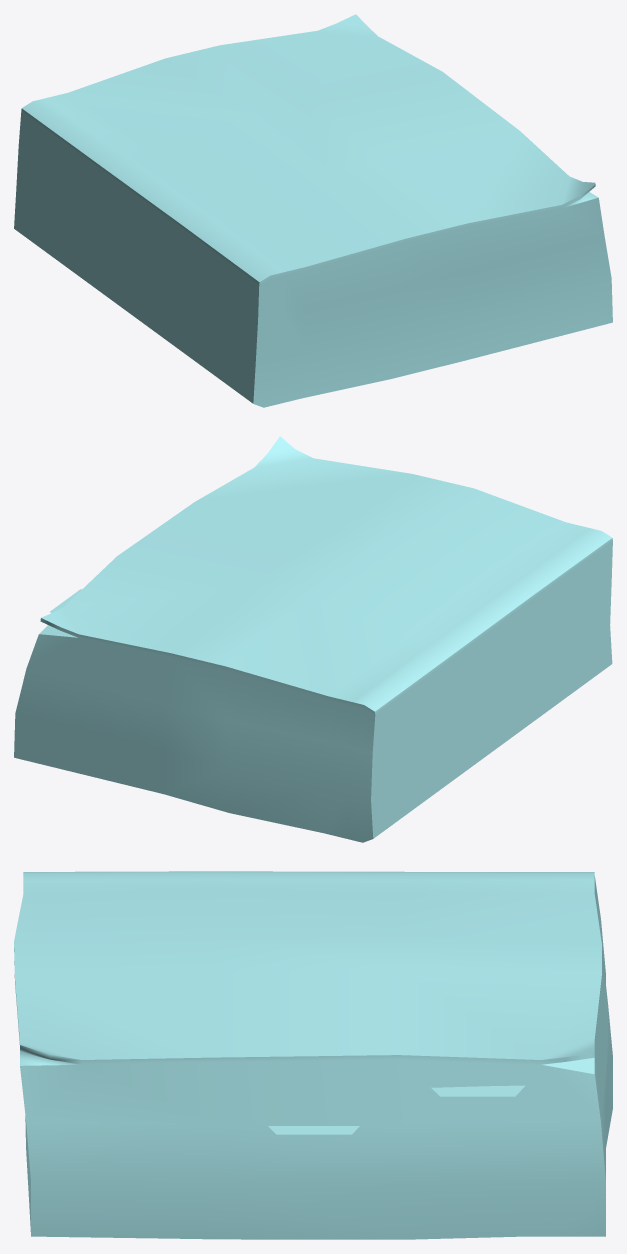
Rendered from phone_book_reference.fbx.
3 renders of one model, top to bottom at view 1: azimuth 30°, elevation 25°; view 2: azimuth 150°, elevation 25°; view 3: azimuth 270°, elevation 25°, orthographic. The views are drawn at different scales.
Visible parts, largest first — view 1: phone_book_reference; view 2: phone_book_reference; view 3: phone_book_reference.
Boxes of the visible parts, x1=… form: phone_book_reference: x1=14, y1=14, x2=612, y2=407; phone_book_reference: x1=14, y1=436, x2=612, y2=842; phone_book_reference: x1=14, y1=871, x2=612, y2=1239.
Bounding box in the file's own units: 1108 × 426 × 1296.
